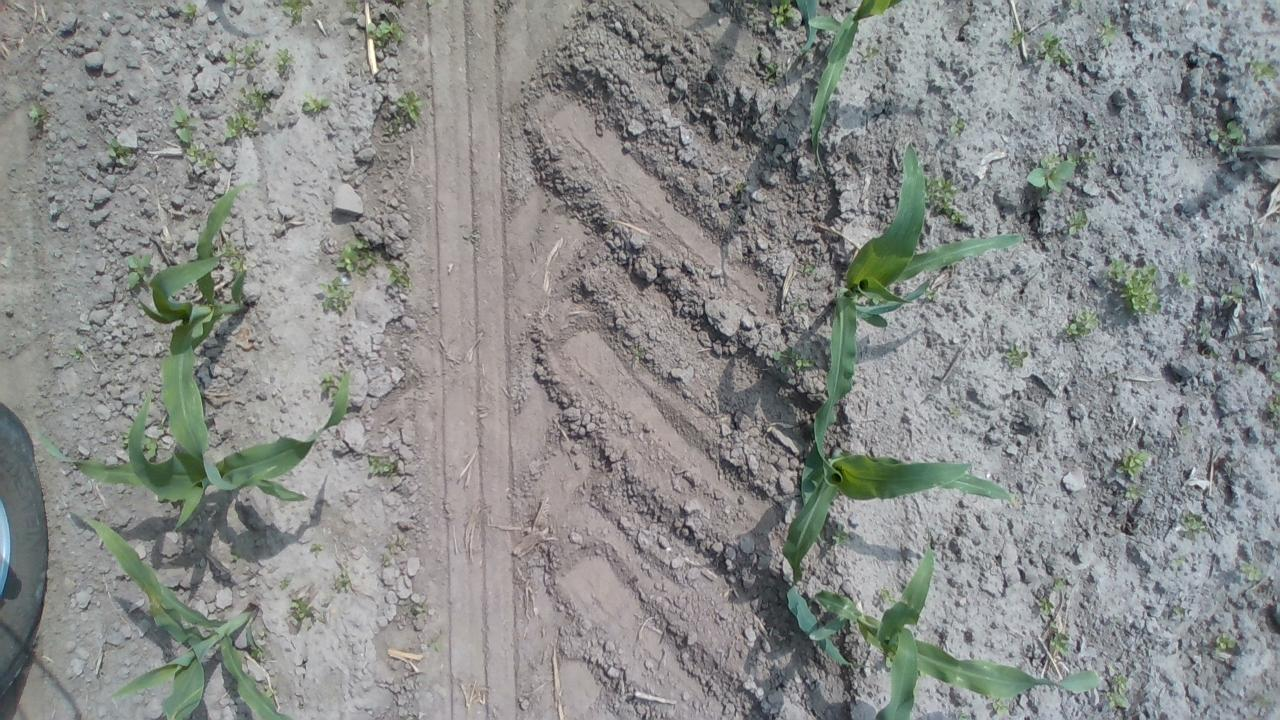Maize: (817, 140, 1037, 480), (775, 444, 1017, 674), (15, 374, 362, 532), (59, 504, 307, 720), (826, 544, 1116, 718), (124, 176, 278, 500), (782, 0, 928, 146)
Weeds: (1109, 257, 1161, 322), (1016, 149, 1078, 199), (924, 177, 970, 230), (334, 228, 381, 279), (1114, 448, 1155, 501), (767, 340, 816, 375), (1036, 572, 1076, 614), (1034, 30, 1076, 69), (218, 34, 262, 68), (160, 106, 198, 144), (1063, 304, 1099, 342), (1108, 674, 1139, 718), (1192, 320, 1225, 361), (365, 18, 407, 50), (391, 85, 425, 124), (222, 110, 266, 140), (314, 280, 358, 310), (121, 430, 162, 462), (1090, 14, 1126, 50), (363, 450, 402, 483), (1205, 116, 1241, 150), (1162, 598, 1202, 626), (128, 254, 158, 290), (1046, 620, 1076, 656), (271, 0, 312, 26), (288, 593, 319, 627), (764, 1, 799, 31), (379, 256, 408, 292), (998, 344, 1034, 370), (272, 47, 302, 78), (239, 84, 276, 109), (218, 239, 246, 272), (296, 95, 334, 119), (382, 534, 406, 572), (1177, 506, 1206, 537), (406, 596, 436, 625), (1061, 208, 1088, 240), (1248, 56, 1276, 86), (27, 100, 53, 131), (313, 370, 342, 397), (1238, 559, 1265, 587), (1266, 380, 1280, 433), (1215, 278, 1243, 304), (1214, 631, 1240, 657), (189, 150, 214, 175), (110, 138, 134, 163), (758, 53, 784, 76), (833, 525, 860, 547), (330, 570, 353, 594), (178, 5, 205, 25), (945, 110, 967, 134), (249, 640, 271, 664), (1008, 24, 1028, 50), (858, 42, 882, 60), (1178, 270, 1198, 290), (462, 228, 482, 246), (304, 538, 324, 556), (798, 258, 818, 276), (1172, 422, 1188, 442), (276, 572, 294, 588), (789, 300, 807, 315), (734, 178, 749, 193)
